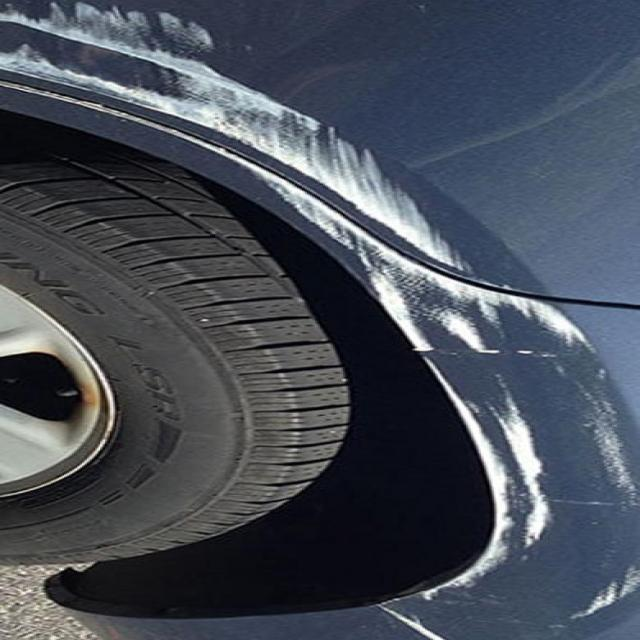scratch: (338, 234, 611, 640), (9, 3, 487, 225)
